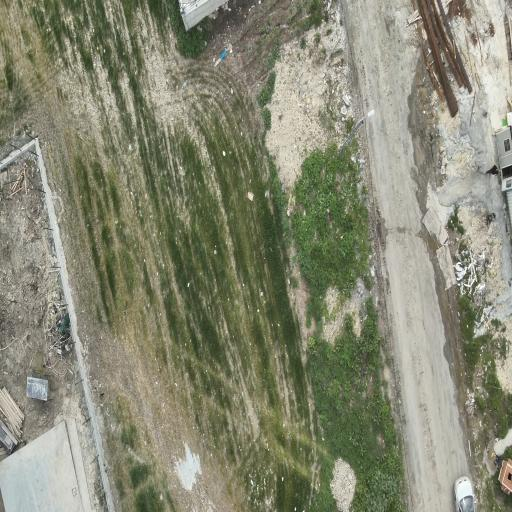car: (454, 477, 475, 511)
person: (486, 164, 498, 174)
